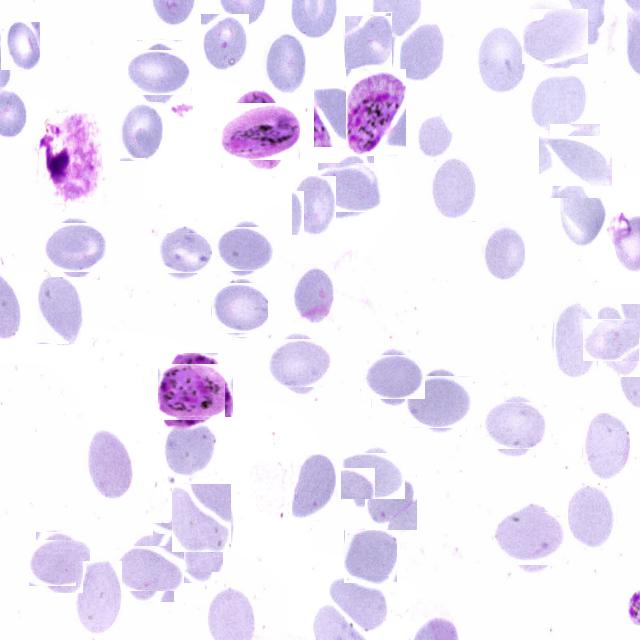difficult: (224, 96, 294, 166), (164, 358, 228, 423)
leukocyte: (38, 112, 102, 203)
red blood cell: (172, 484, 231, 552), (498, 507, 560, 569), (544, 130, 606, 192), (409, 372, 472, 432), (476, 26, 528, 98), (524, 6, 585, 67), (553, 294, 595, 382), (158, 518, 218, 578), (327, 576, 389, 633), (582, 412, 630, 484), (270, 334, 328, 392), (486, 396, 544, 454), (320, 158, 378, 216), (558, 177, 606, 247), (76, 561, 122, 634), (35, 276, 84, 344), (529, 74, 588, 130), (47, 219, 104, 276), (122, 540, 180, 596), (568, 484, 616, 550), (430, 155, 476, 222), (345, 449, 401, 504), (132, 45, 187, 100), (366, 349, 421, 404), (88, 431, 134, 496), (397, 20, 445, 82), (164, 421, 218, 476), (314, 88, 364, 147), (212, 282, 266, 336), (32, 536, 86, 590), (292, 454, 336, 520), (590, 311, 640, 369), (344, 12, 392, 72), (365, 475, 417, 530), (201, 14, 249, 73), (344, 530, 396, 583), (218, 223, 270, 276), (262, 32, 306, 94), (291, 175, 336, 235), (119, 101, 163, 161), (482, 222, 525, 280), (292, 264, 334, 323), (162, 230, 208, 276), (1, 23, 40, 70), (418, 109, 454, 158)
schizont: (346, 69, 406, 156)
